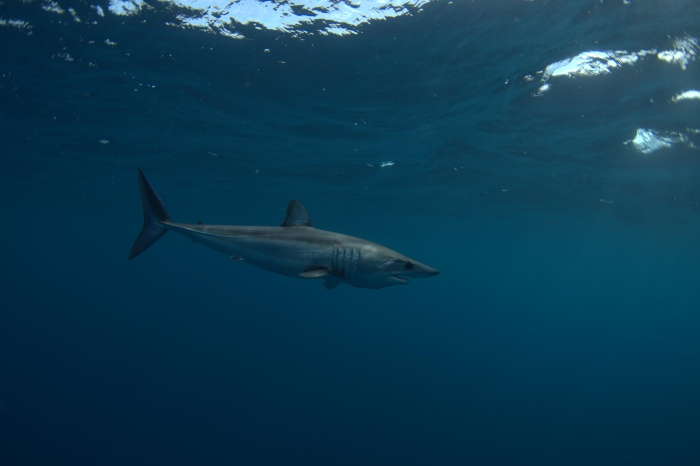Azul: (103, 153, 457, 364)
